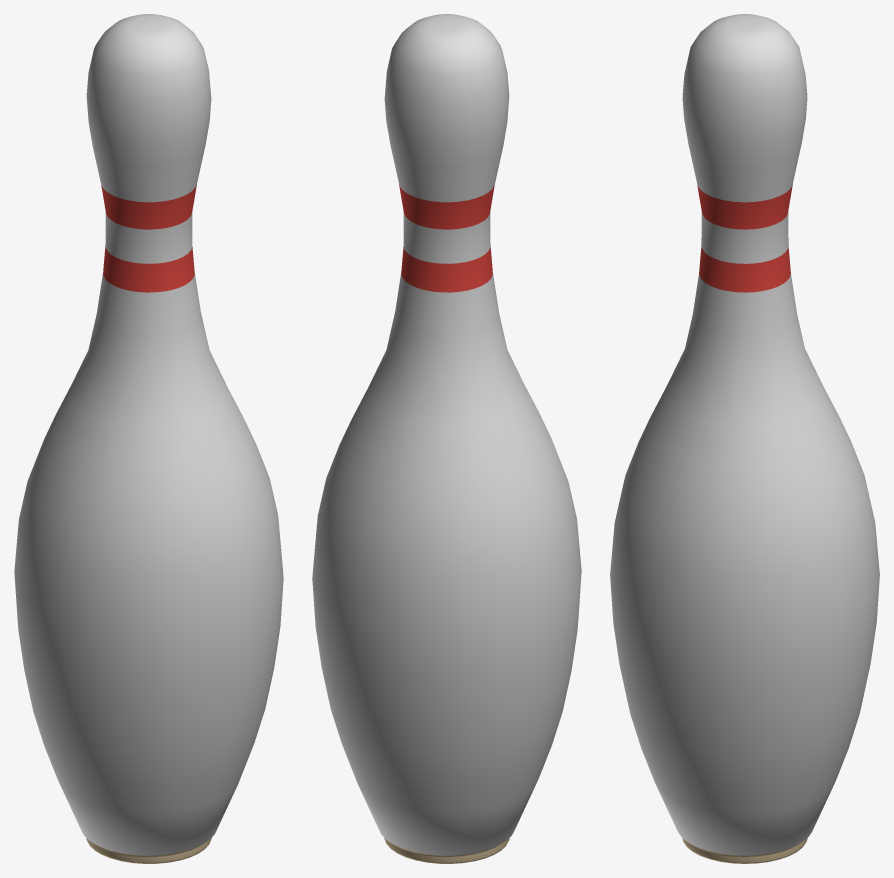
File: bowling_kegel.dae
3 views of the same model, side by side, from view 1: azimuth 30°, elevation 25°; view 2: azimuth 150°, elevation 25°; view 3: azimuth 270°, elevation 25° (orthographic).
Visible parts, largest first — view 1: kegel; view 2: kegel; view 3: kegel.
Boxes of the visible parts, <box> form: kegel: <box>14,14,283,863</box>; kegel: <box>312,14,581,863</box>; kegel: <box>610,14,879,863</box>.
Bounding box in the file's own units: 0.4491 × 0.4491 × 1.49.
